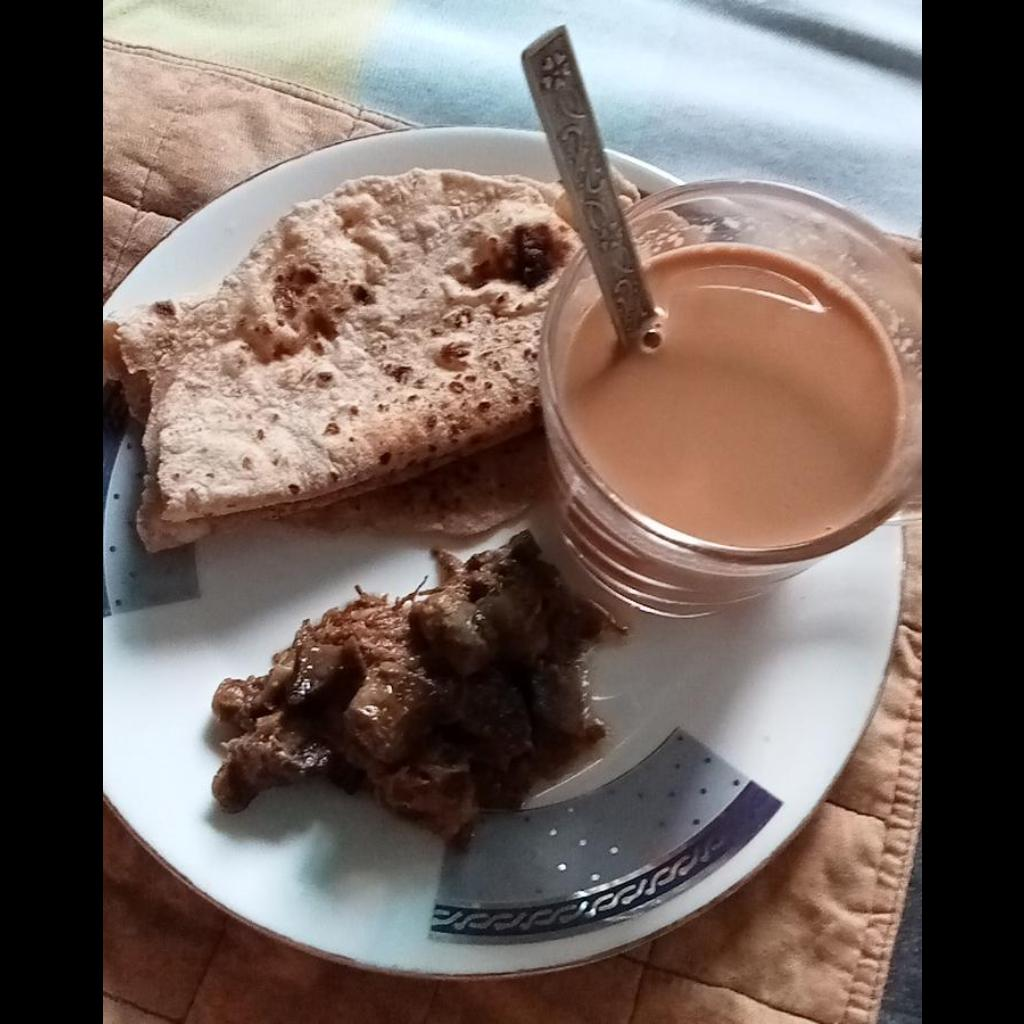cha: (564, 253, 902, 545)
ruti: (102, 164, 577, 553)
vegetable: (208, 524, 621, 845)
